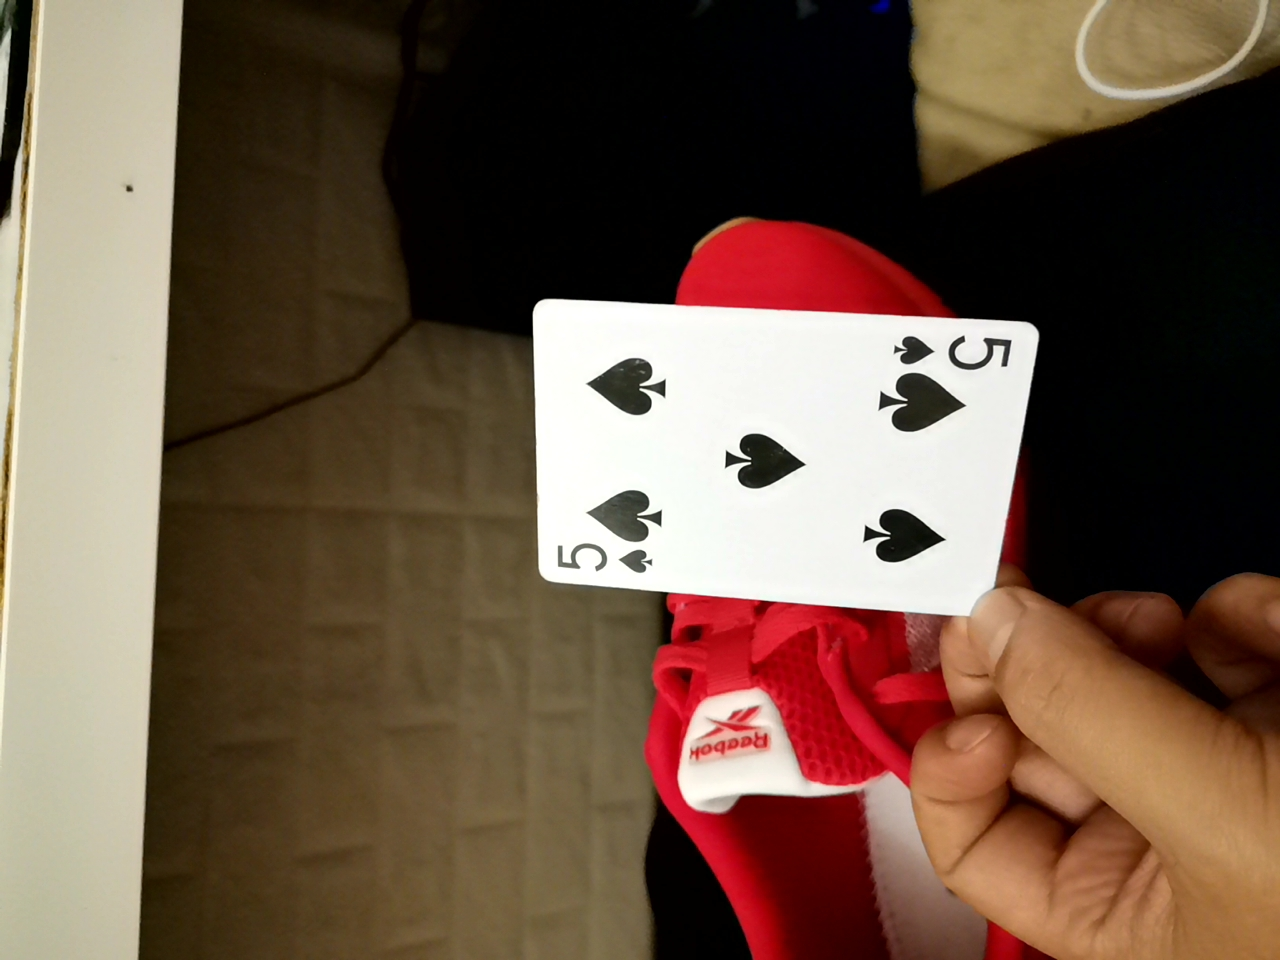ht 5: (506, 298, 1055, 625)
